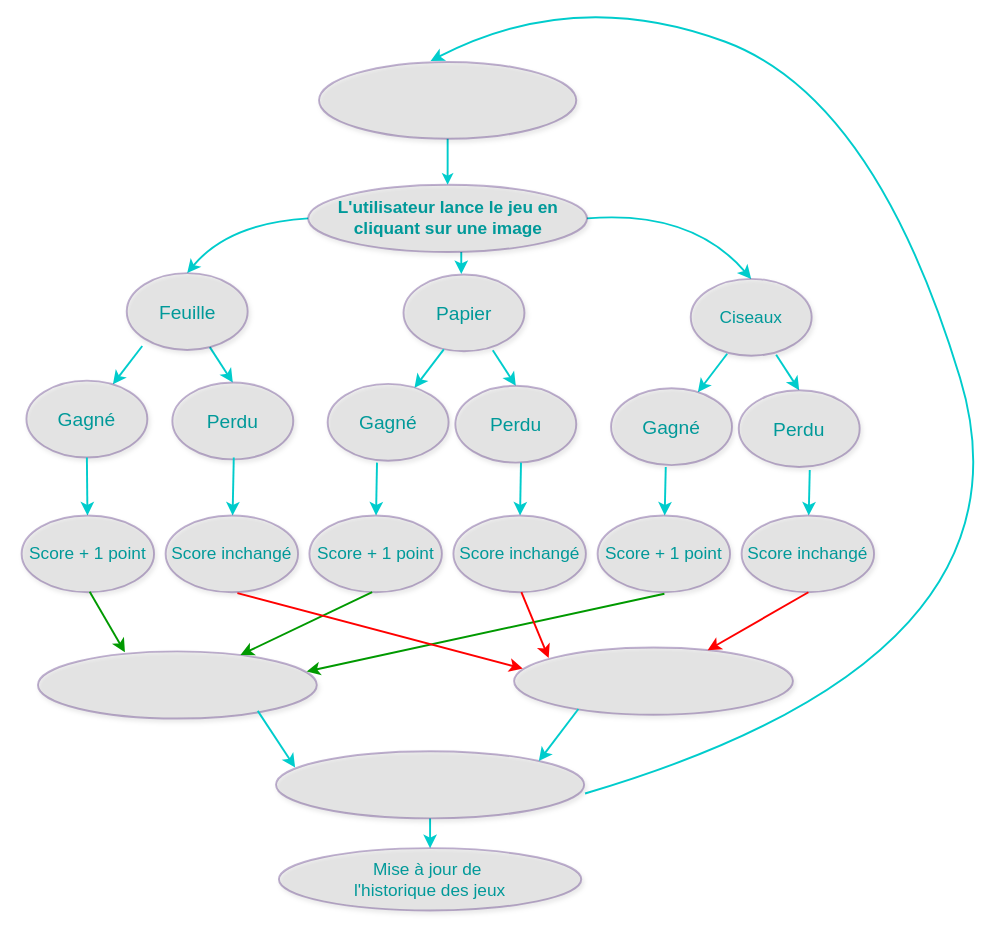
This 991x935 diagram has some shape labels left out. The centre of each missing label's shape, as x and y in pixels:
Chifoumi Feuille/Papier/Ciseaux: point 448,101
L'ordinateur atteint le score de 10 points: point 654,682
L'utilisateur atteint le score de 10 points: point 178,686
Lancement d'une nouvelle partie: point 430,786
